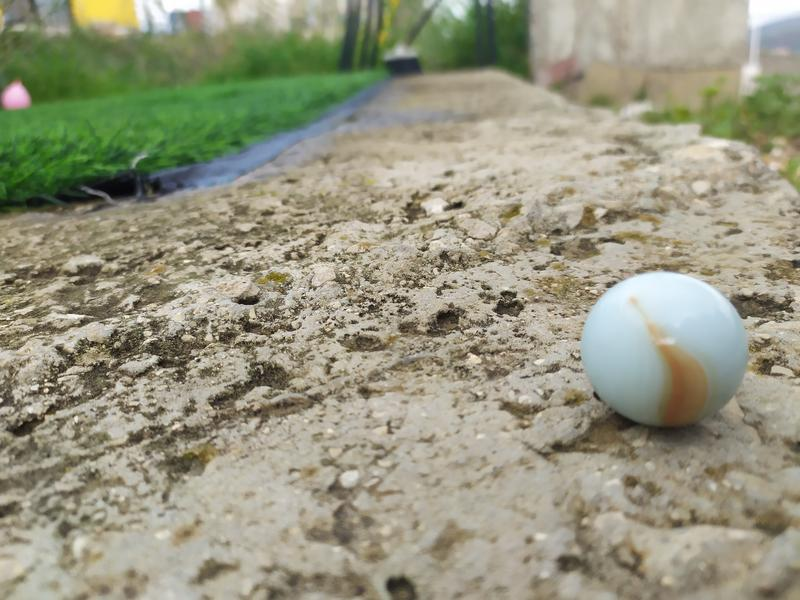Warning: (577, 266, 752, 432)
